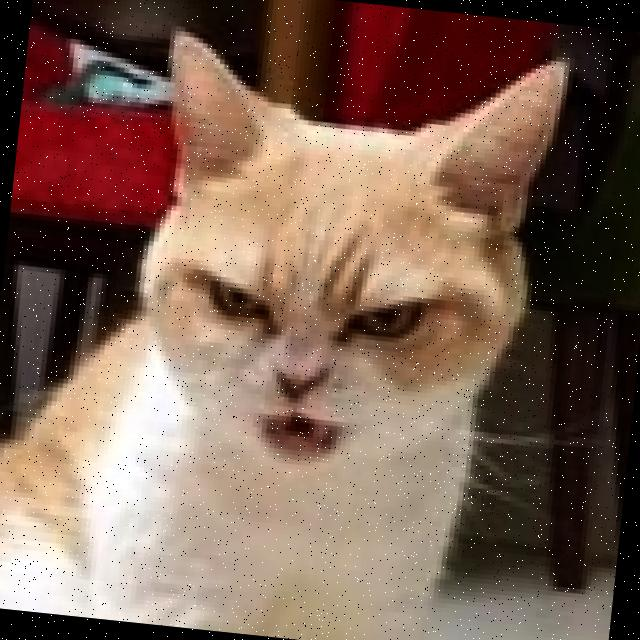Angry: (134, 207, 467, 502)
